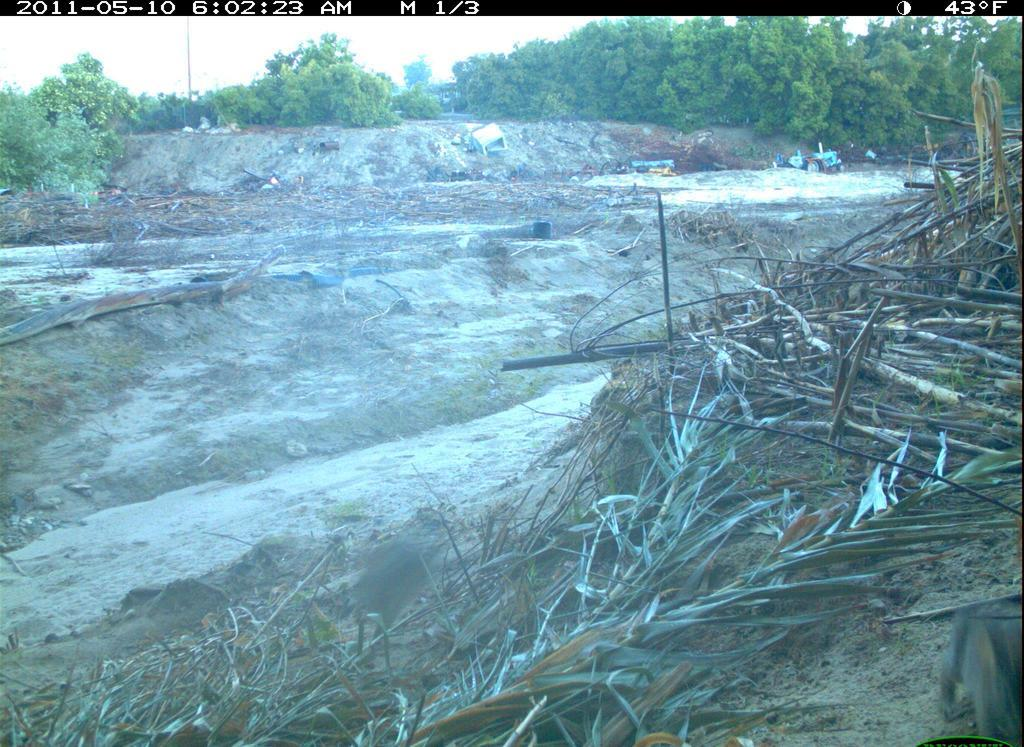rabbit: (326, 525, 459, 681)
